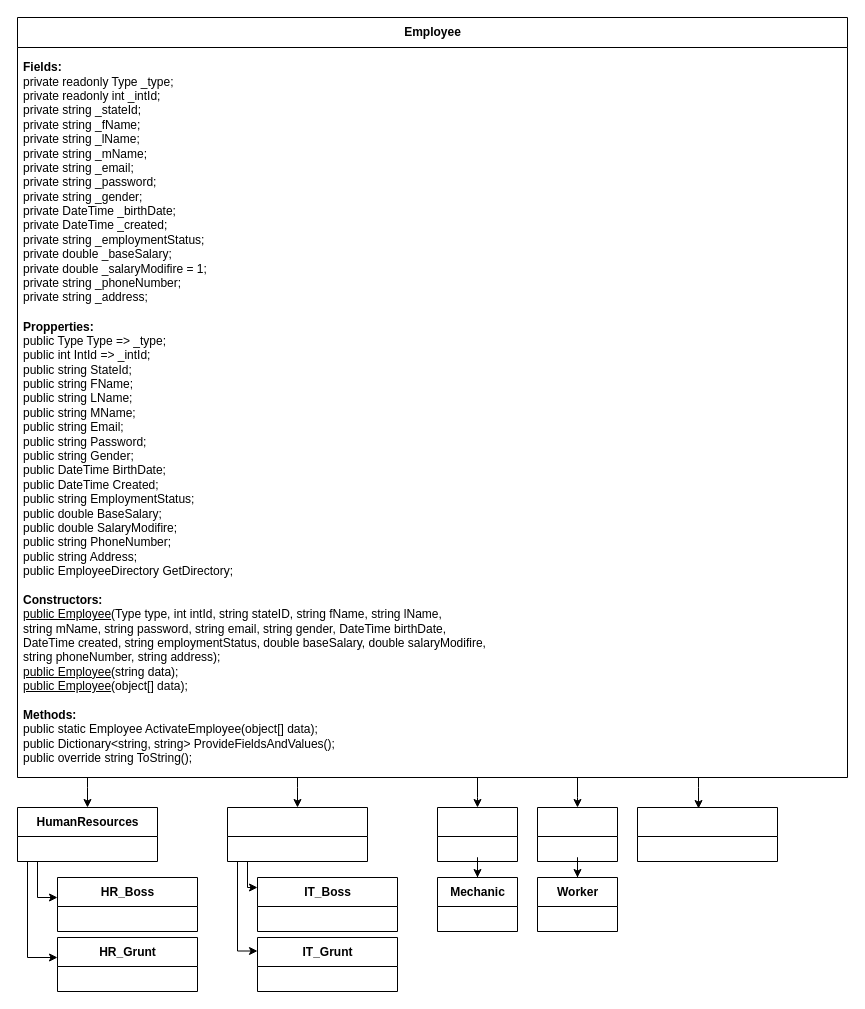
The diagram is 865 pixels wide and 1009 high, and some of its shapes have lost their labels. The centre of each missing label's shape, as x and y in pixels:
"General_Management" belongs at [707,834].
"IT" belongs at [297,834].
"Maitenance" belongs at [477,834].
"Production" belongs at [577,834].
